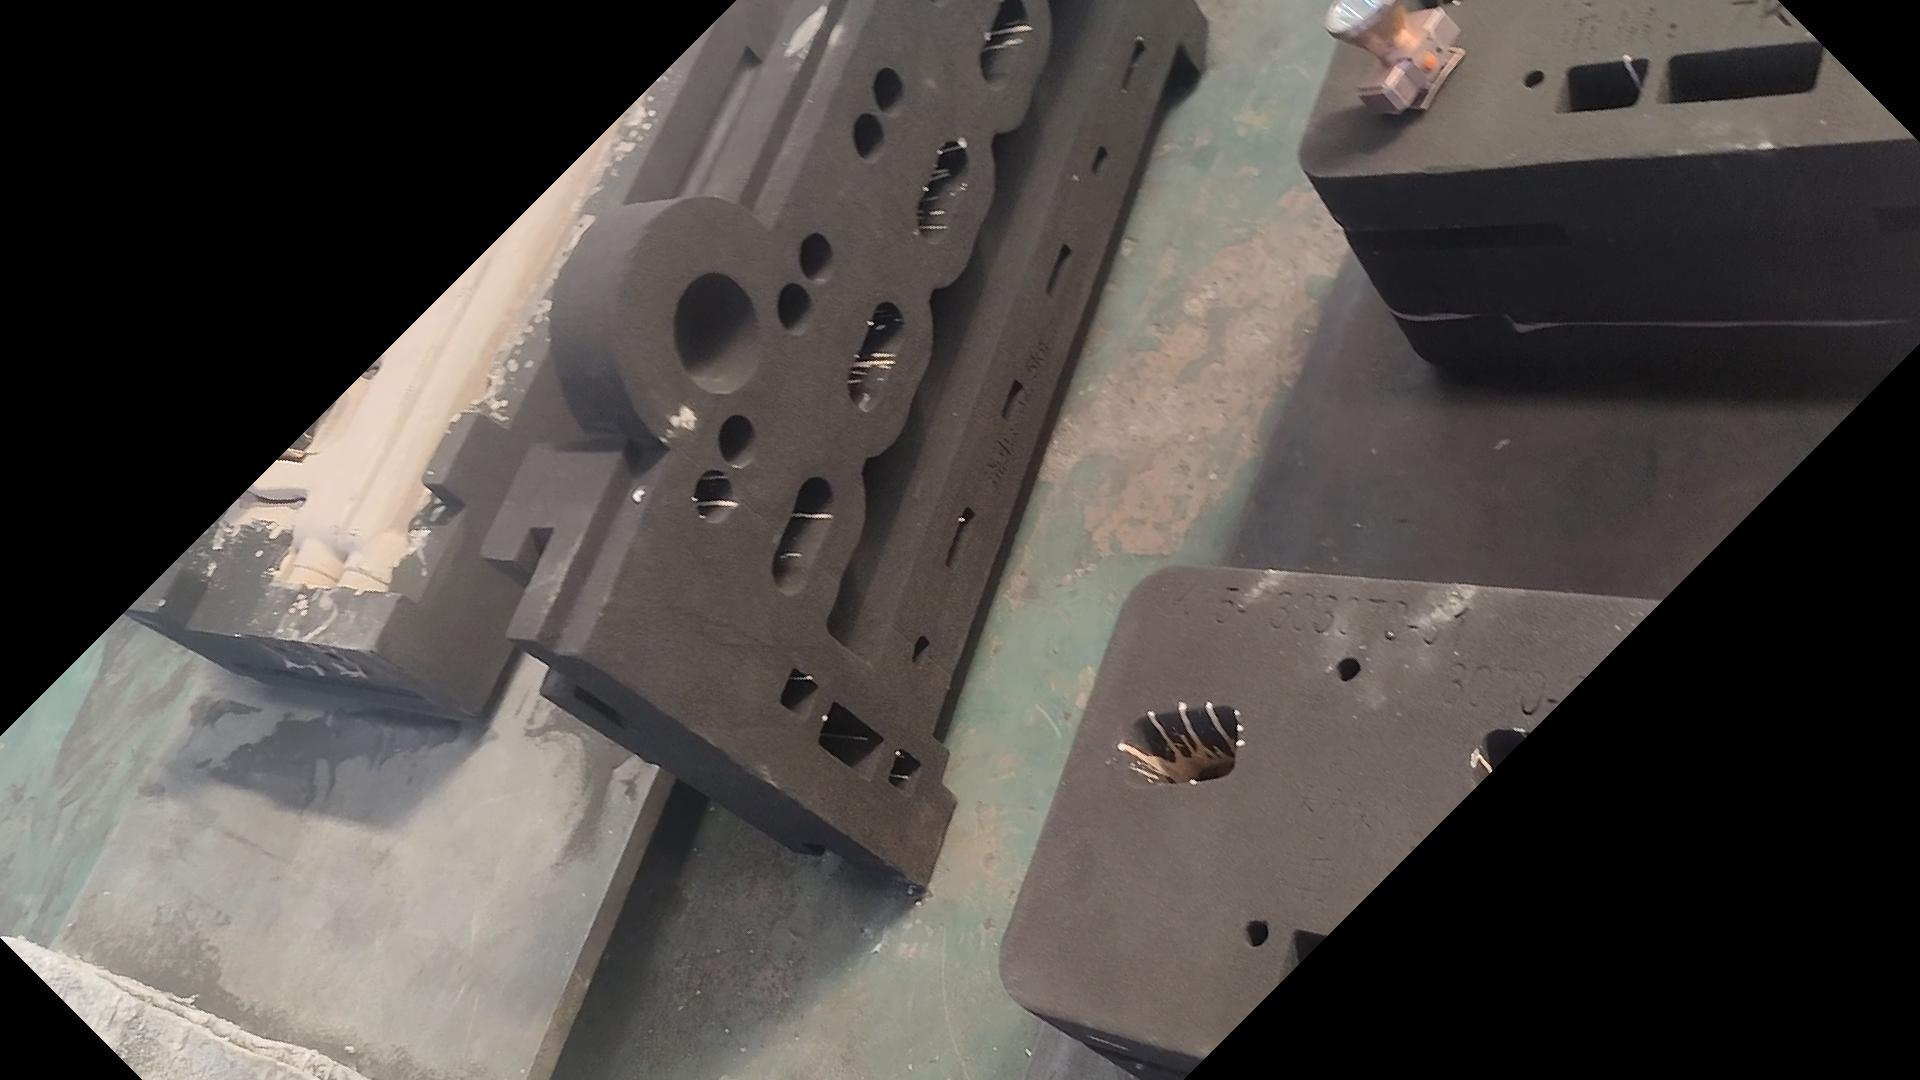pouring hole: (675, 273, 762, 393)
